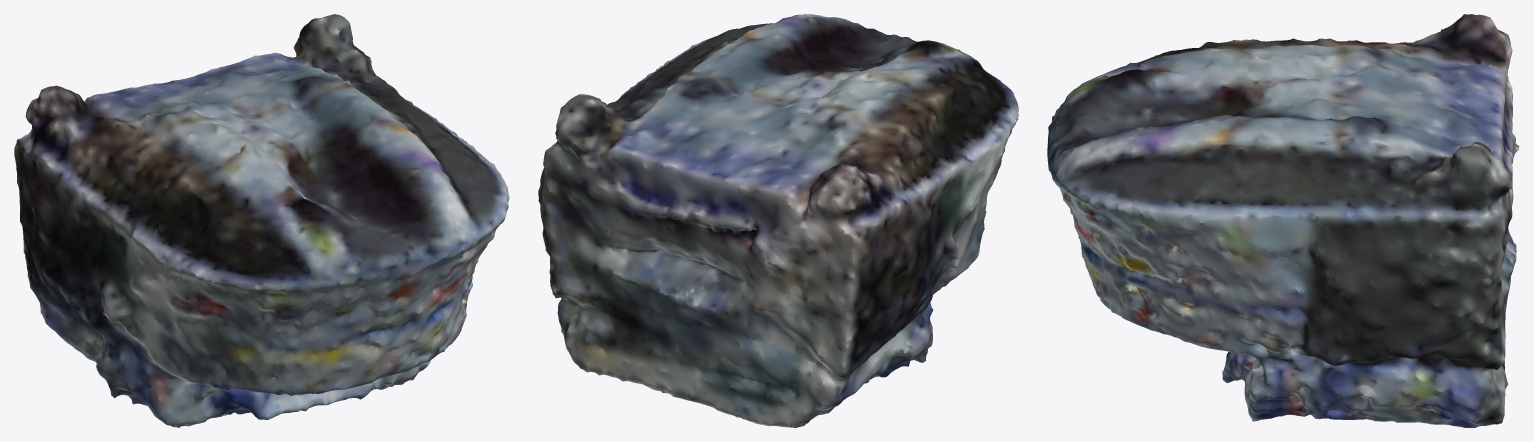
The model's file is backpack.glb.
3 views of the same model, side by side, from view 1: azimuth 30°, elevation 25°; view 2: azimuth 150°, elevation 25°; view 3: azimuth 270°, elevation 25° (orthographic). The views are drawn at different scales.
Bounding box in the file's own units: 0.9109 × 0.6915 × 0.9971.
